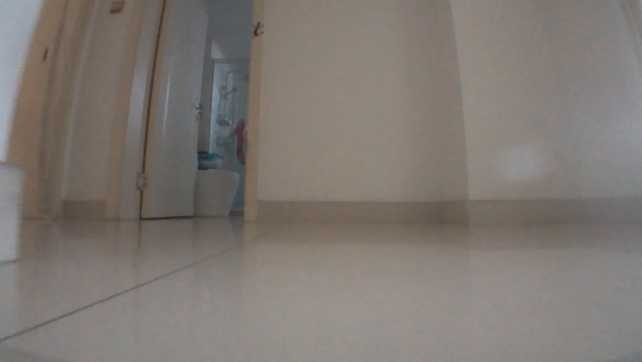door_anno: (140, 0, 211, 216)
toilet: (191, 168, 243, 218)
